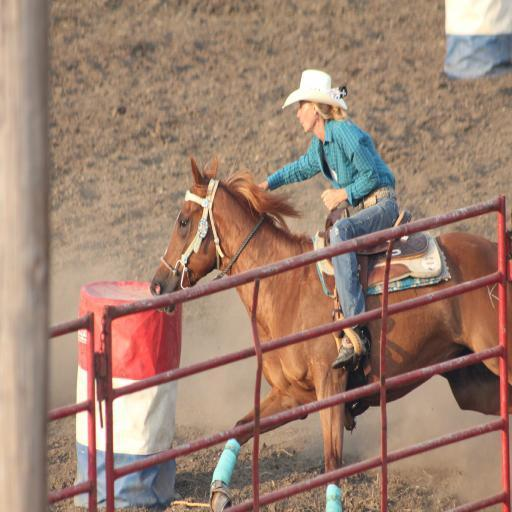horse: (149, 151, 512, 511)
